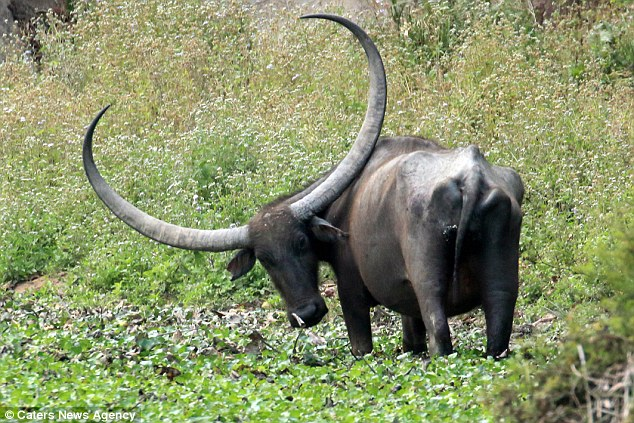buffalo: (82, 13, 530, 375)
